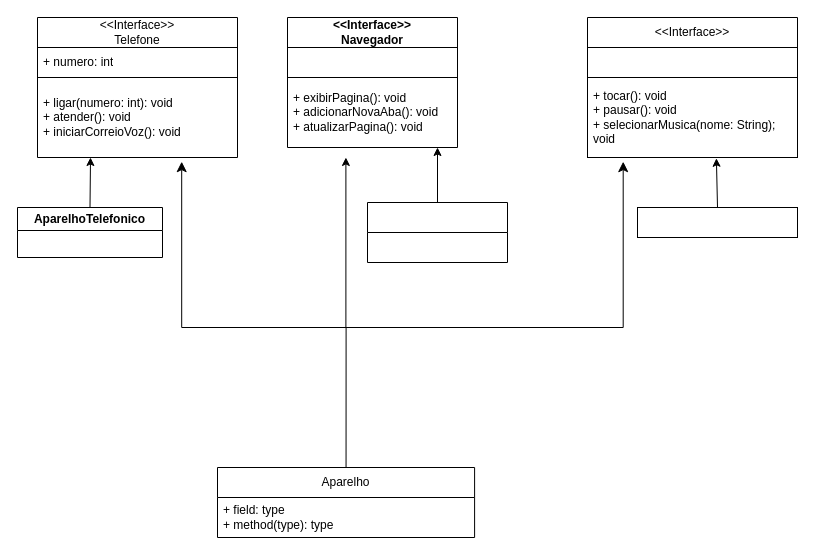
This 815x555 diagram has some shape labels left out. Each missing label, with the centre of its shape:
"#nome: String" goes at point (692, 62).
"- nomePagina: String" goes at point (372, 62).
"NavegadorInternet" goes at point (437, 232).
"ReprodutorMusical" goes at point (717, 222).
